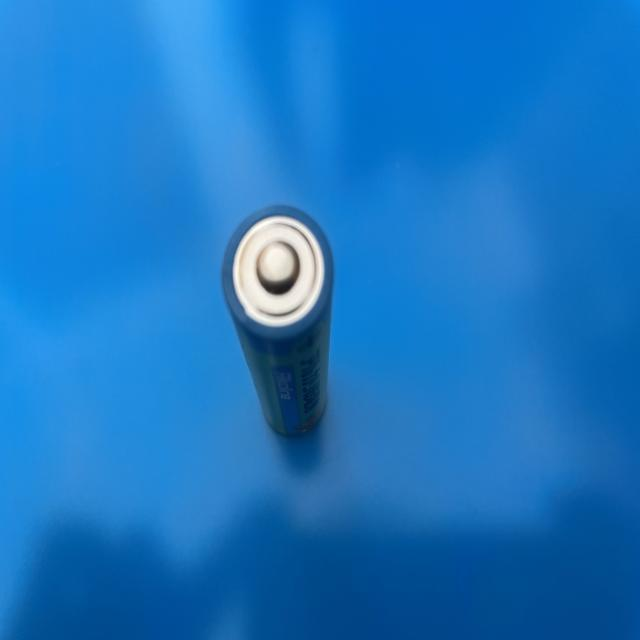hazardous waste: (220, 198, 336, 438)
